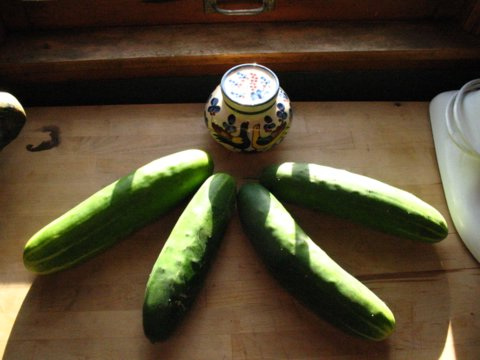cucumber: (233, 177, 393, 341), (21, 147, 213, 278), (259, 162, 450, 248), (142, 169, 235, 340)
